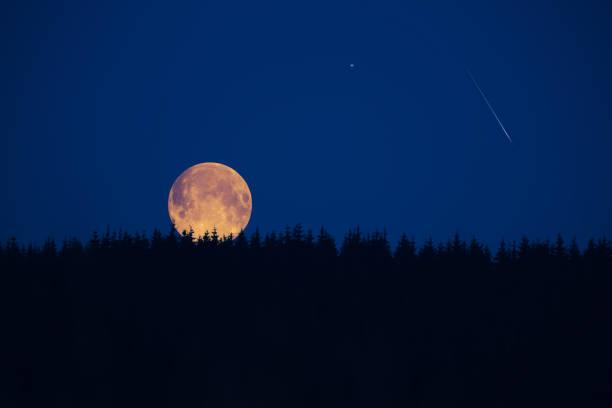meteor: (502, 128, 517, 148)
